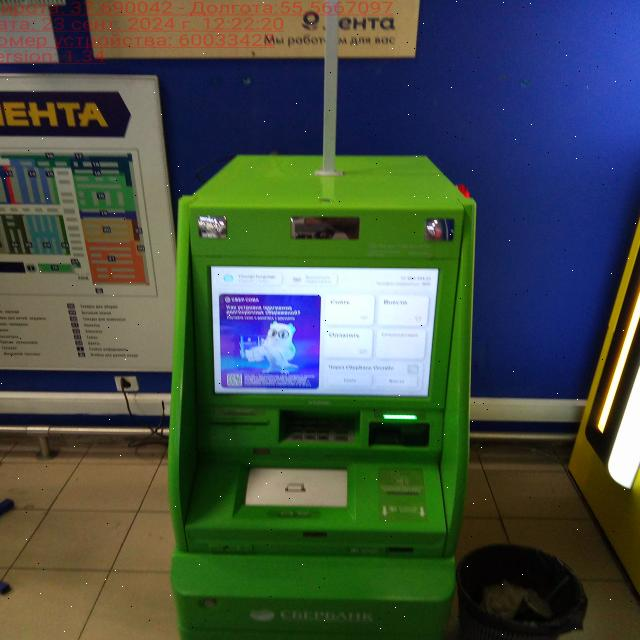bank: (169, 151, 472, 640)
